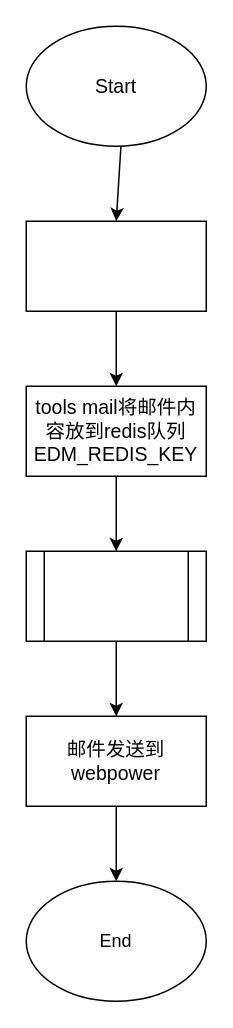
The diagram is 233 pixels wide and 1028 high, and some of its shapes have lost their labels. The centre of each missing label's shape, as x and y in pixels:
"ApiMail请求tools发送邮件" goes at (x=115, y=265).
"常驻进程读取队列内容" goes at (x=115, y=595).
